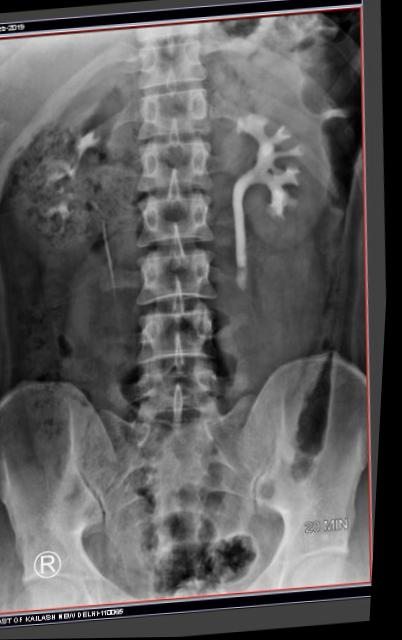left kidney: (234, 59, 362, 259)
right kidney: (0, 96, 125, 291)
vertebrae: (147, 122, 233, 190)
